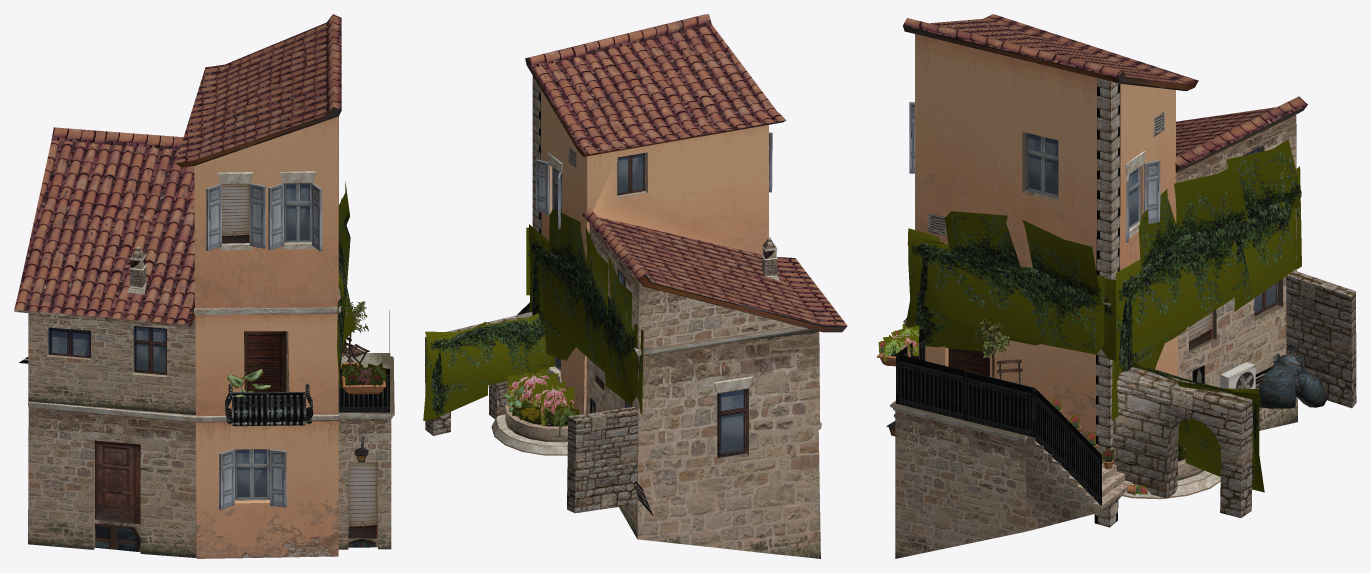
Rendered from house_2.fbx.
The picture shows the model from 3 angles, left to right: view 1: azimuth 30°, elevation 25°; view 2: azimuth 150°, elevation 25°; view 3: azimuth 270°, elevation 25°; orthographic projection. The views are drawn at different scales.
Visible parts, largest first — view 1: House_2; view 2: House_2; view 3: House_2.
Boxes of the visible parts, bbox=[...] form: House_2: bbox=[14, 14, 394, 558]; House_2: bbox=[423, 14, 847, 558]; House_2: bbox=[876, 14, 1356, 558].
Bounding box in the file's own units: 1099 × 1242 × 1049.
